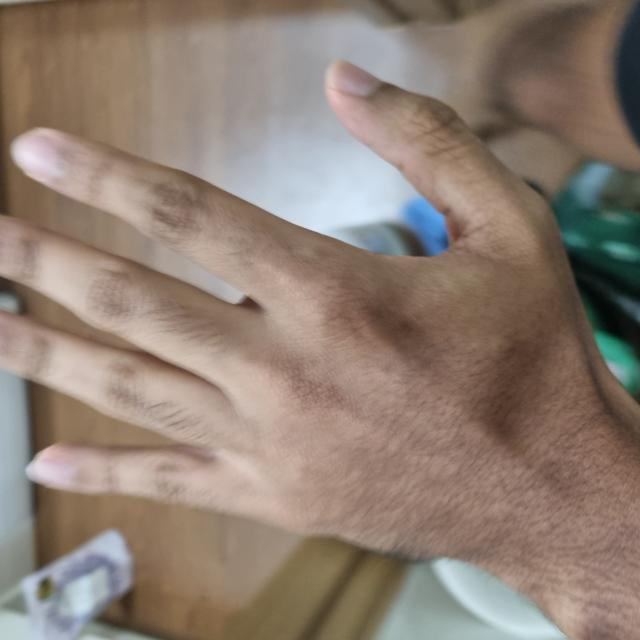Paper: (79, 0, 574, 601)
